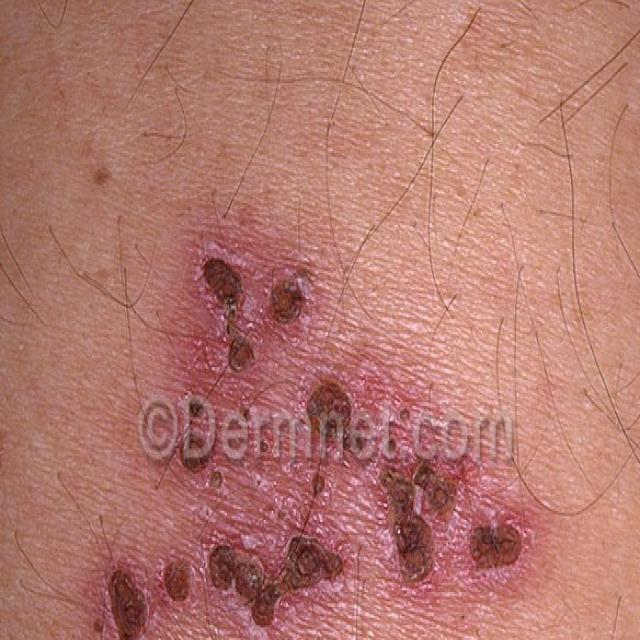Viral Infections: (75, 206, 551, 640)
